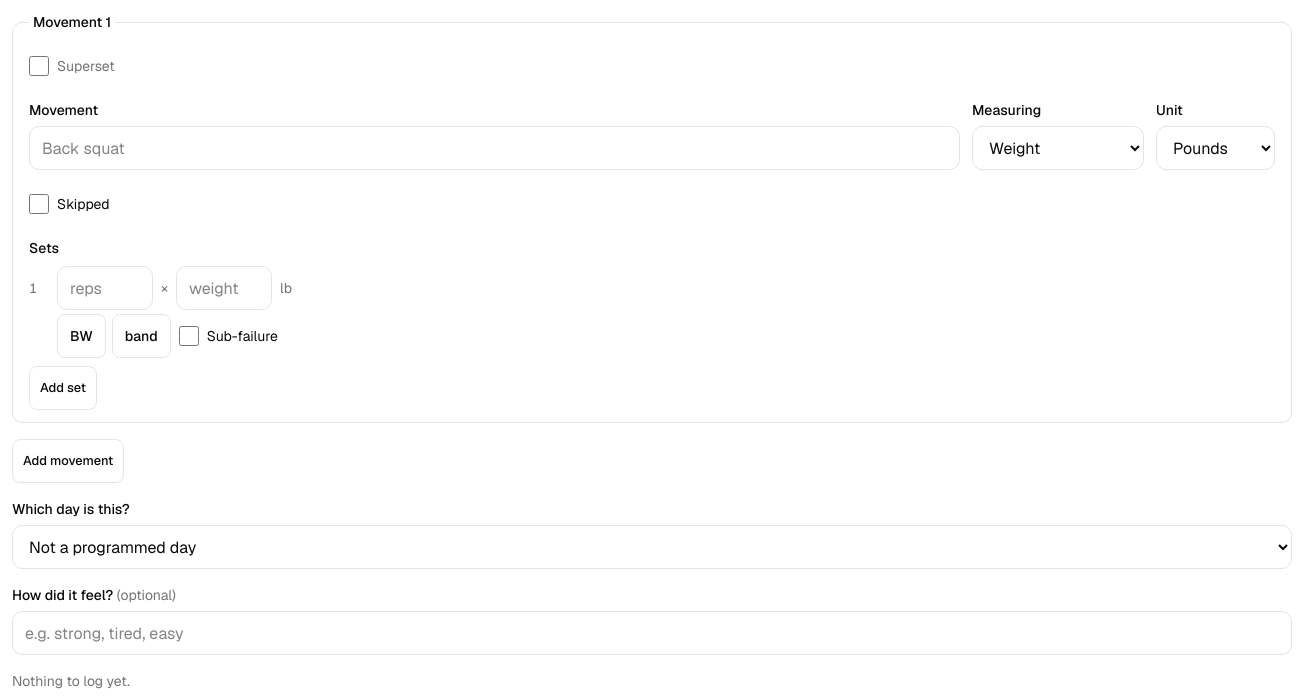
Test case: StrengthForm — skipped movement payload (GAP-1 P1-1c) › hides the set rows while skipped, and says so rather than going silent
The width and height of the screenshot is (1304, 698).
Click the checkbox named "movement 1 skipped".
click(39, 204)  # box [29, 194, 49, 214]
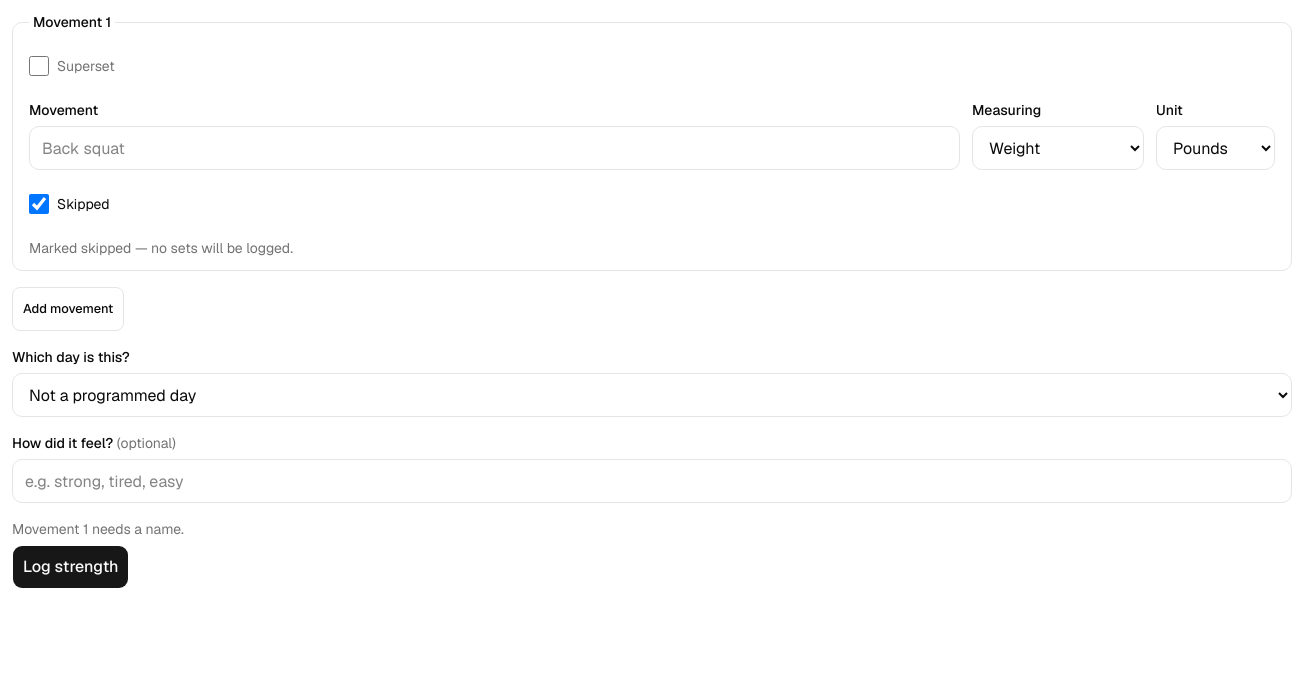
Expected: the number field labelled "movement 1 set 1 reps" is gone
Expected: the text "Marked skipped — no sets will be logged." is shown, [29, 239, 293, 257]
